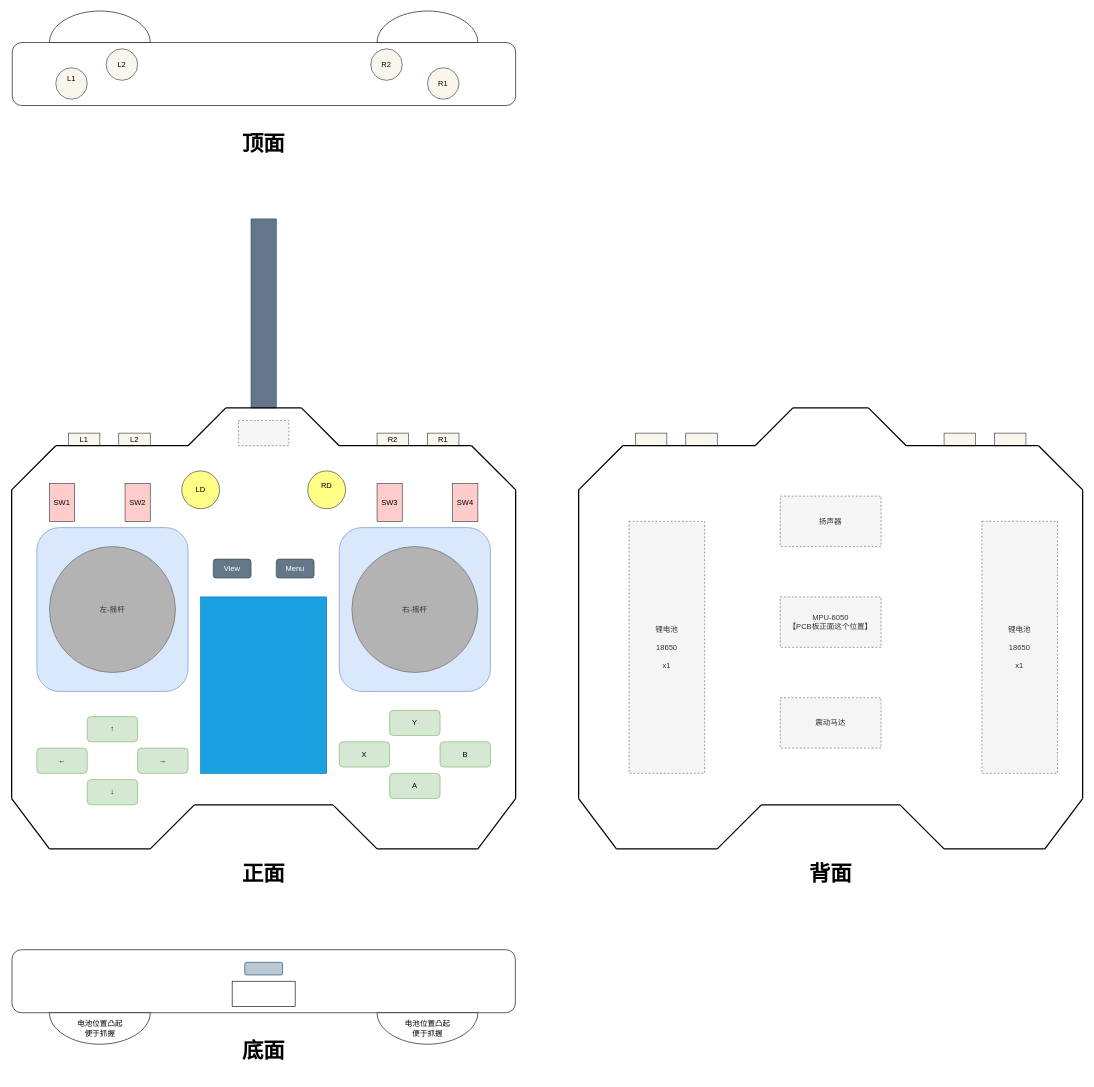
Some shapes in this 1094 by 1087 pixel diagram are drawn without their labels. Each missing label, with the box of its shape:
TFT LCD彩屏 分辨率 240x320 2.4寸 外壳框 38x50mm: (200, 596, 327, 773)
USB-C: (244, 962, 283, 975)
Yuj lego: (238, 420, 289, 446)
天线 2.4G: (250, 218, 276, 408)
电源开关: (232, 981, 295, 1006)
